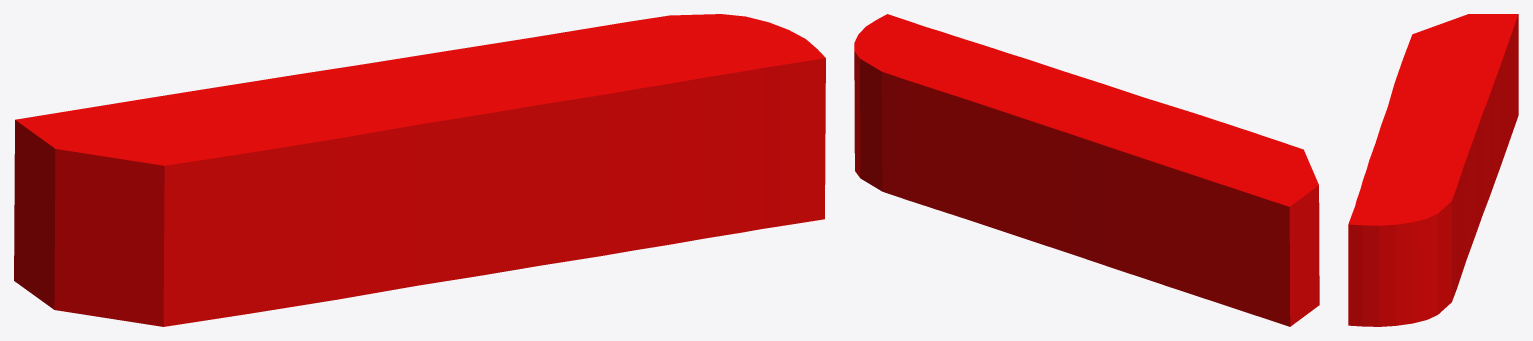
3 renders of one model, left to right at view 1: azimuth 30°, elevation 25°; view 2: azimuth 150°, elevation 25°; view 3: azimuth 270°, elevation 25°, orthographic. The views are drawn at different scales.
Parts seen in each view (by area): view 1: 8_2; view 2: 8_2; view 3: 8_2.
Boxes of the visible parts, left/top/right/bottom form: 8_2: left=14, top=14, right=825, bottom=326; 8_2: left=854, top=14, right=1319, bottom=326; 8_2: left=1348, top=14, right=1518, bottom=326.
Bounding box in the file's own units: 0.0503 × 0.0117 × 0.0173.
1 material, 1 textured.
